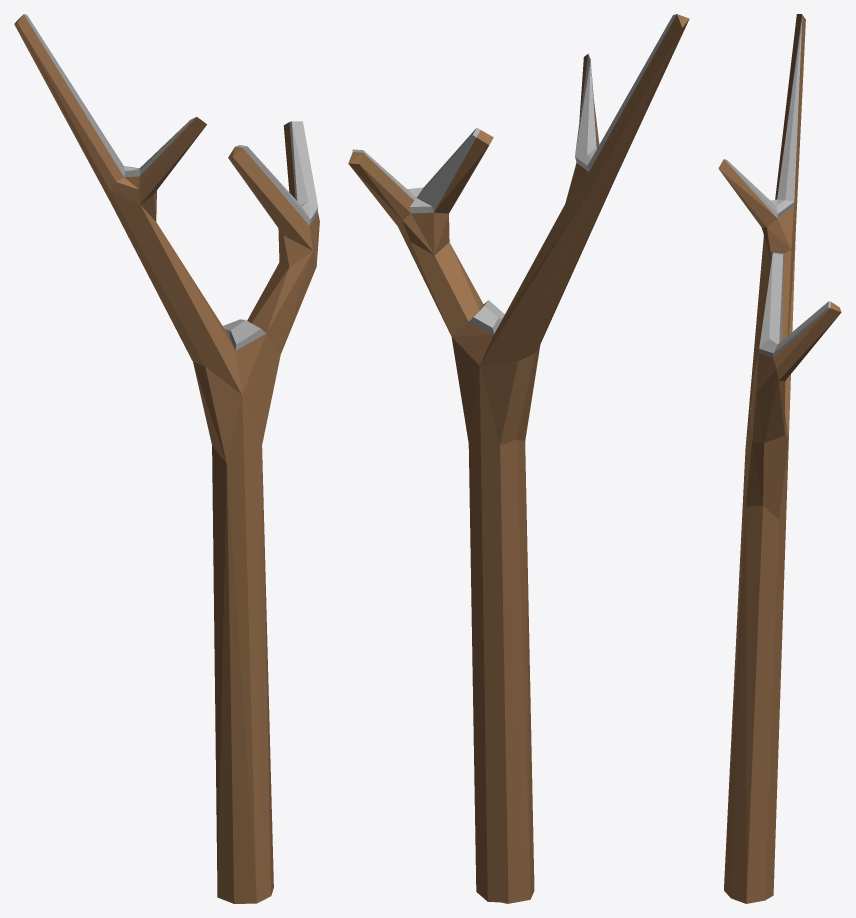
File: Tree_2 Winter.fbx
The picture shows the model from 3 angles, left to right: view 1: azimuth 30°, elevation 25°; view 2: azimuth 150°, elevation 25°; view 3: azimuth 270°, elevation 25°; orthographic projection. The views are drawn at different scales.
Visible parts, largest first — view 1: Tree2Winter_mesh; view 2: Tree2Winter_mesh; view 3: Tree2Winter_mesh.
Part boxes in pixels (<box>): Tree2Winter_mesh: <box>14,14,319,903</box>; Tree2Winter_mesh: <box>348,14,689,903</box>; Tree2Winter_mesh: <box>718,14,841,903</box>.
Bounding box in the file's own units: 353 × 1011 × 141.
